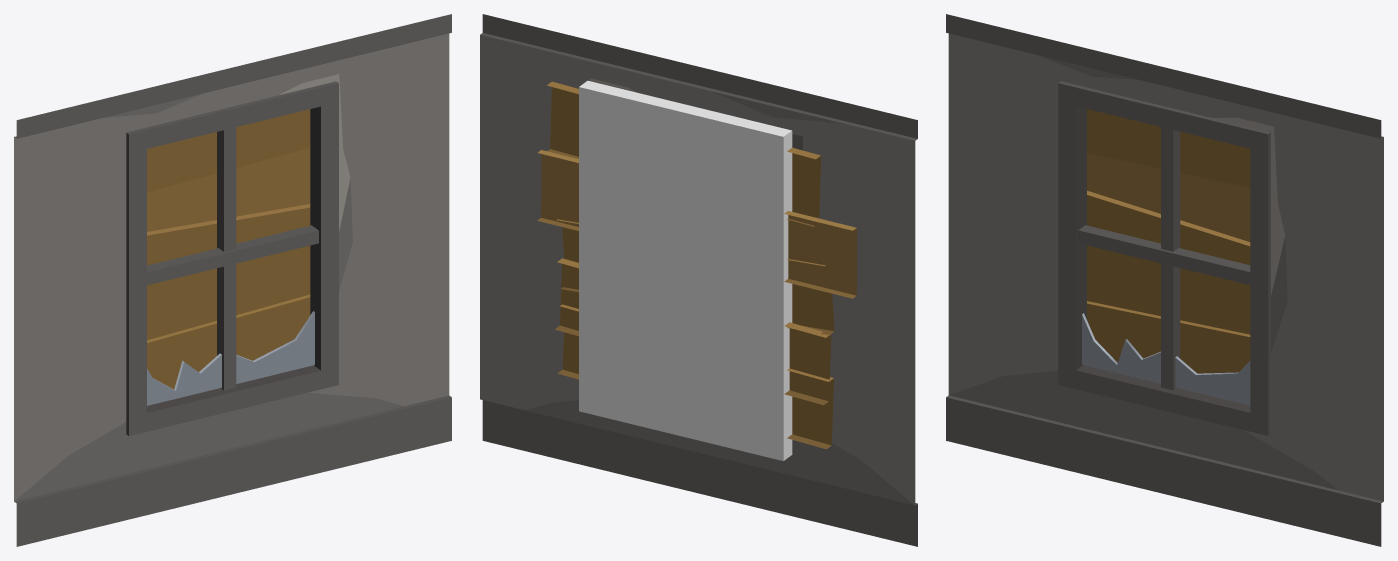
The model's file is AI_Env_Wall_Grey_Window_02.fbx.
3 renders of one model, left to right at view 1: azimuth 30°, elevation 25°; view 2: azimuth 150°, elevation 25°; view 3: azimuth 330°, elevation 25°, orthographic.
Parts seen in each view (by area): view 1: AI_Env_Wall_Window_02; view 2: AI_Env_Wall_Window_02; view 3: AI_Env_Wall_Window_02.
Boxes of the visible parts, left/top/right/bottom form: AI_Env_Wall_Window_02: left=14, top=14, right=451, bottom=546; AI_Env_Wall_Window_02: left=480, top=14, right=917, bottom=546; AI_Env_Wall_Window_02: left=946, top=14, right=1383, bottom=546.
Size of the model in its own units: 5 by 4.69 by 0.3888.
